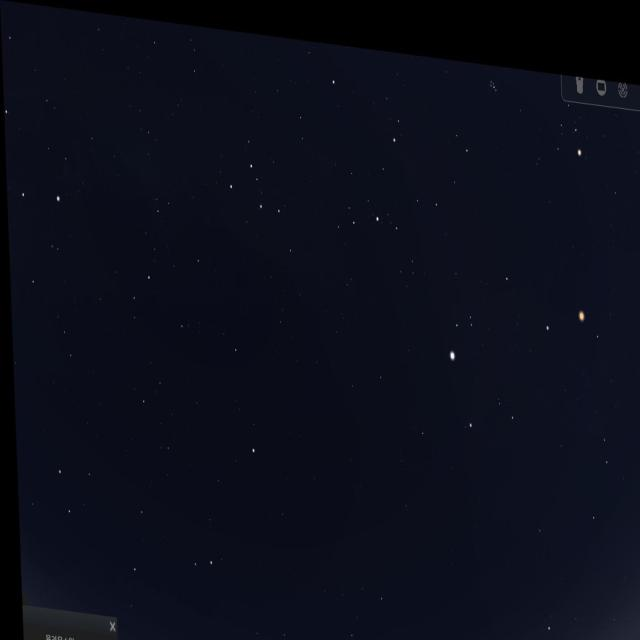cassiopeia: (210, 112, 300, 256)
pleiades: (490, 64, 508, 85)
